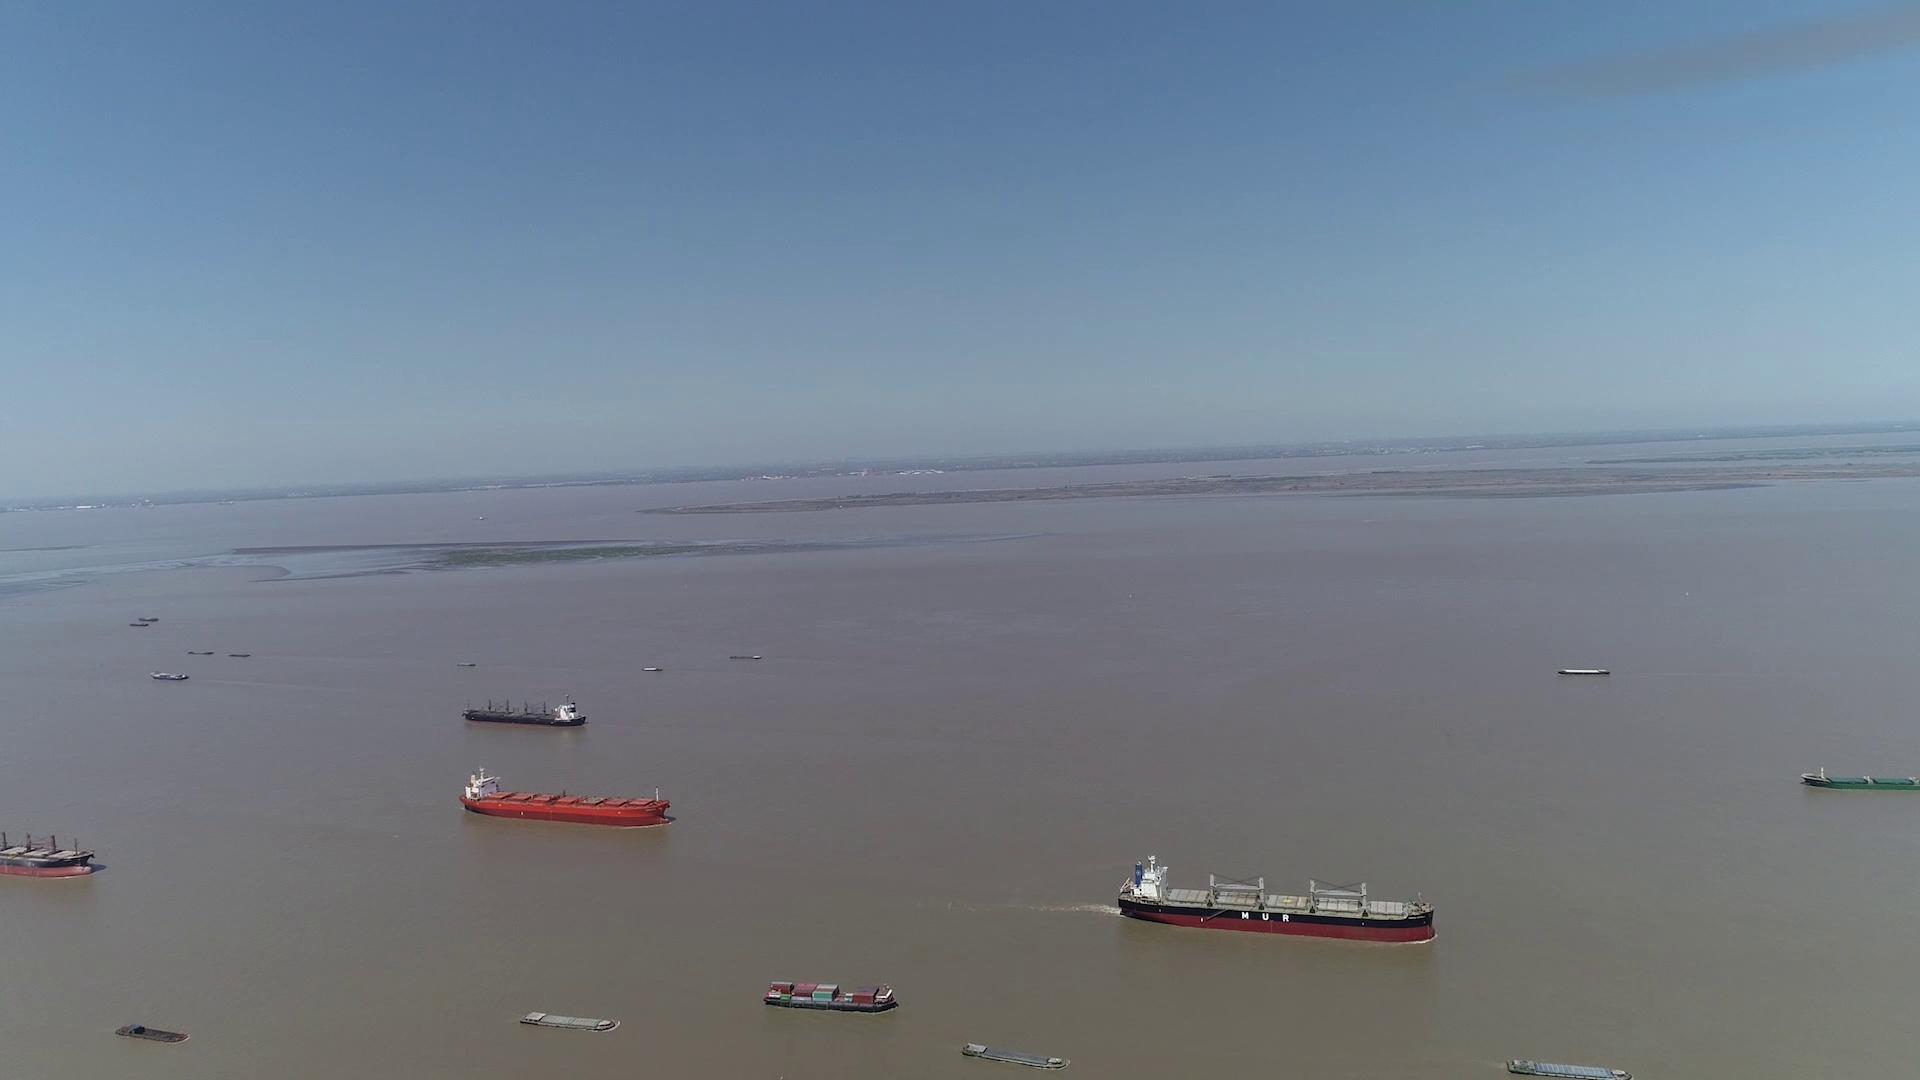ship: (1117, 855, 1435, 945), (459, 764, 669, 825), (1, 820, 100, 878), (761, 978, 898, 1011), (463, 695, 587, 727), (959, 1042, 1068, 1071), (1509, 1058, 1631, 1080), (1801, 767, 1917, 790), (520, 1010, 621, 1033), (115, 1023, 190, 1043), (1559, 666, 1611, 676), (148, 671, 187, 682)
